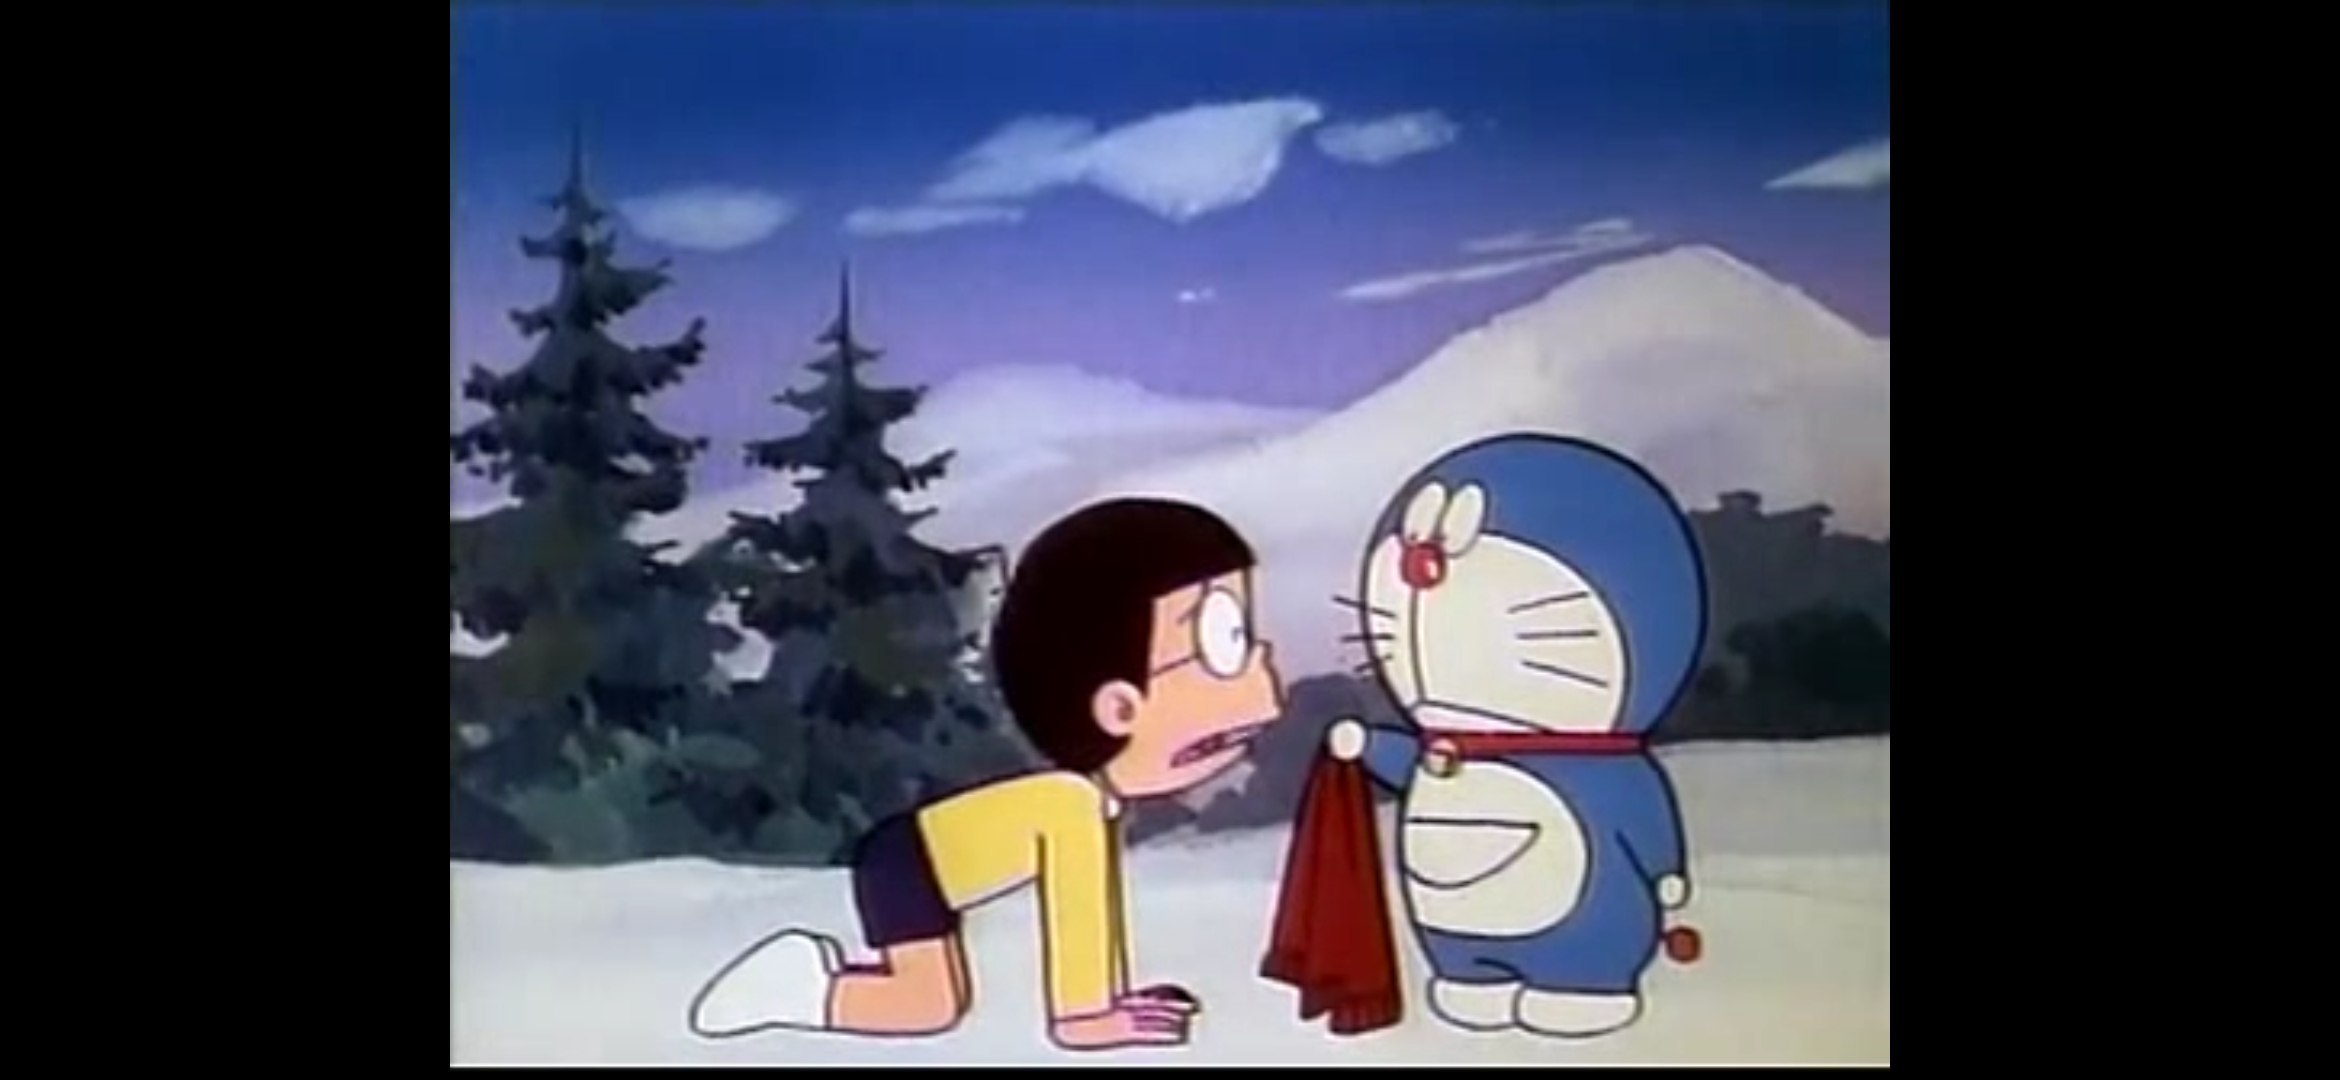Doraemon: (1358, 431, 1701, 776)
Nobi: (992, 497, 1283, 797)
